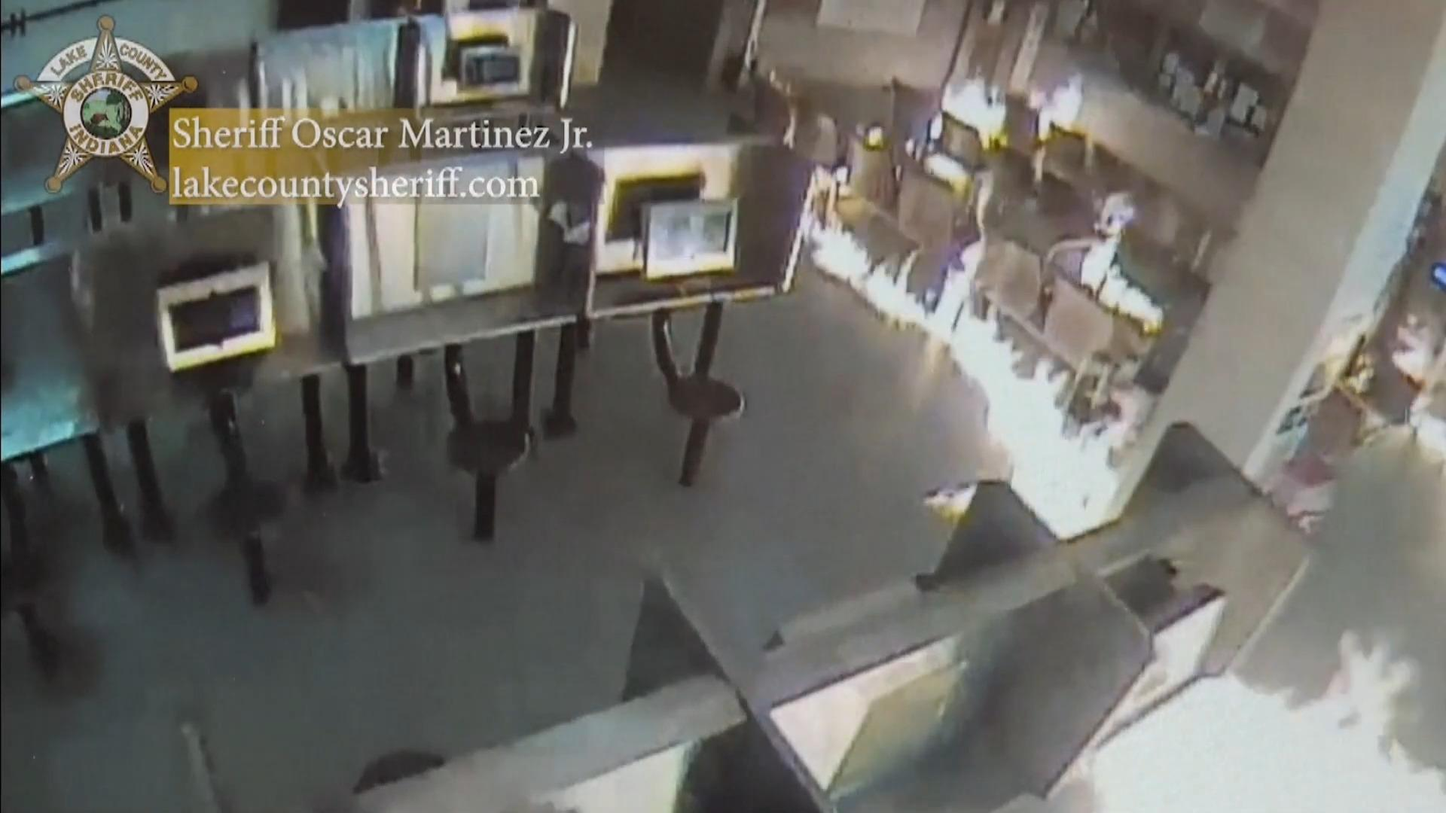fire: (806, 213, 1134, 538), (1082, 628, 1446, 813), (1077, 197, 1165, 329), (927, 75, 1084, 143)
